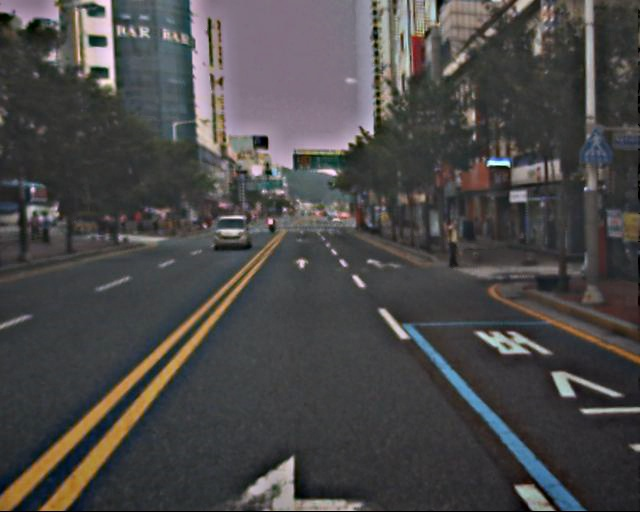person: (444, 218, 466, 270)
